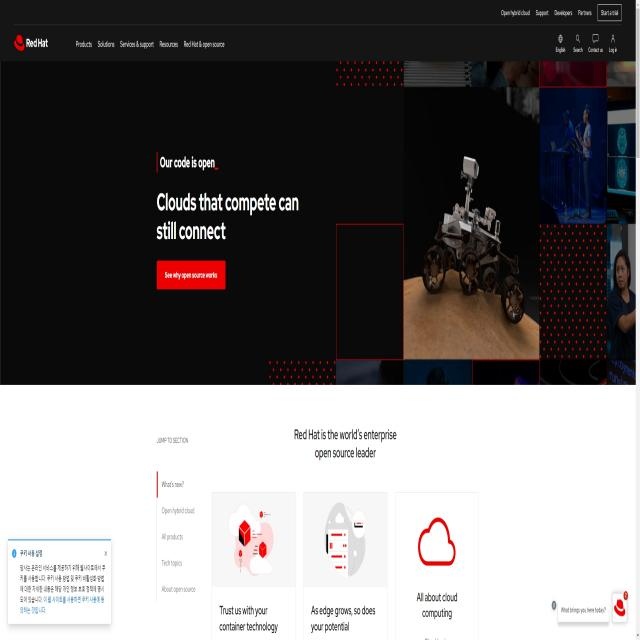menu-bar: (549, 27, 621, 59)
menu-panel: (142, 454, 202, 610)
tab-bar: (72, 34, 225, 56)
